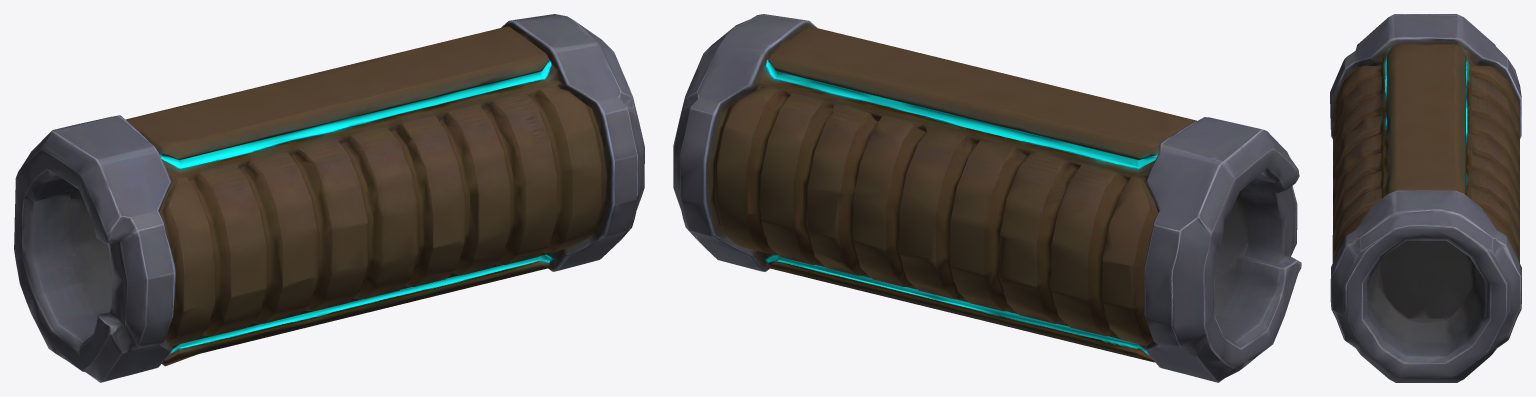
The model's file is thunderclap-pump.fbx.
3 views of the same model, side by side, from view 1: azimuth 30°, elevation 25°; view 2: azimuth 150°, elevation 25°; view 3: azimuth 270°, elevation 25° (orthographic). The views are drawn at different scales.
Visible parts, largest first — view 1: tripo_node_a24aa7e3; view 2: tripo_node_a24aa7e3; view 3: tripo_node_a24aa7e3.
Boxes of the visible parts, bbox=[...] form: tripo_node_a24aa7e3: bbox=[14, 14, 644, 382]; tripo_node_a24aa7e3: bbox=[673, 14, 1301, 382]; tripo_node_a24aa7e3: bbox=[1330, 14, 1521, 382].
Bounding box in the file's own units: 0.9786 × 0.3943 × 0.3888.
